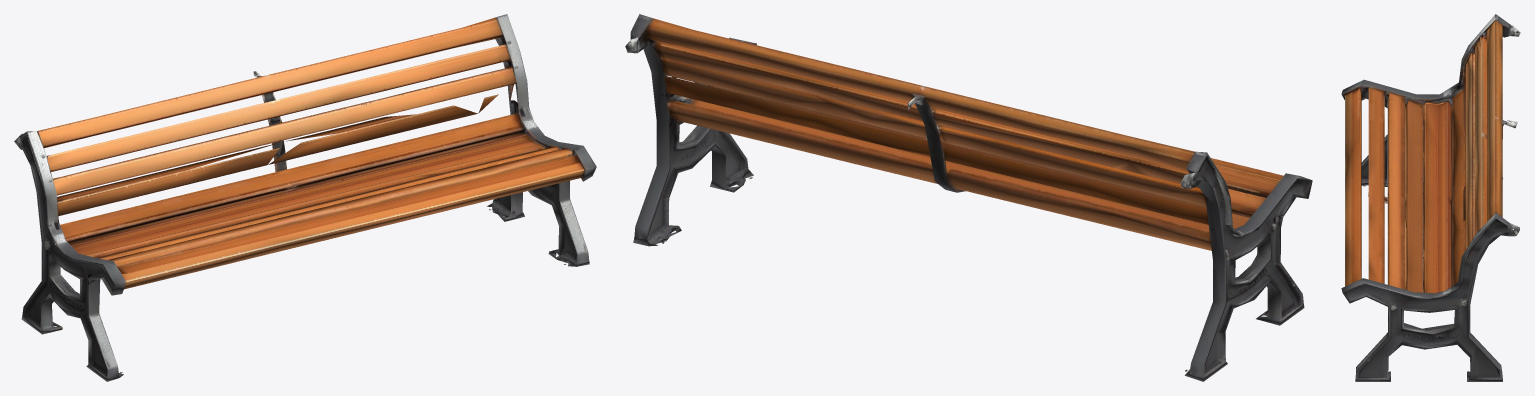
The model's file is kw_bench.glb.
3 views of the same model, side by side, from view 1: azimuth 30°, elevation 25°; view 2: azimuth 150°, elevation 25°; view 3: azimuth 270°, elevation 25° (orthographic). The views are drawn at different scales.
Parts seen in each view (by area): view 1: frame; view 2: frame; view 3: frame.
Part boxes in pixels (bbox=[...]): frame: bbox=[14, 14, 596, 381]; frame: bbox=[625, 14, 1312, 381]; frame: bbox=[1341, 14, 1520, 381].
Size of the model in its own units: 1.8 by 0.6802 by 0.6694.
Materials: 1 (1 with a texture image).
